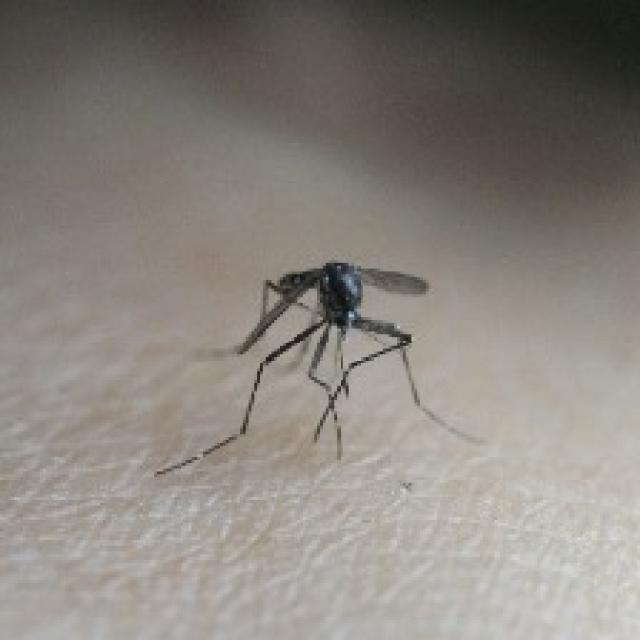aedes: (151, 257, 486, 477)
